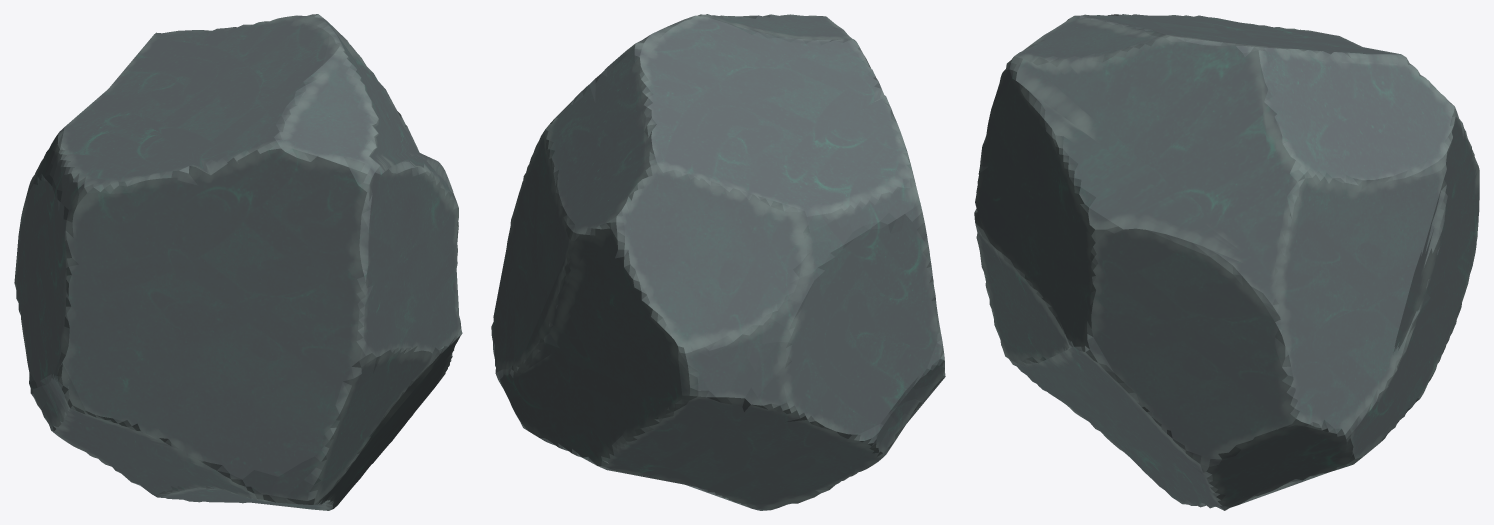
File: Asset_stone01.fbx
The picture shows the model from 3 angles, left to right: view 1: azimuth 30°, elevation 25°; view 2: azimuth 150°, elevation 25°; view 3: azimuth 270°, elevation 25°; orthographic projection. The views are drawn at different scales.
Visible parts, largest first — view 1: stone1; view 2: stone1; view 3: stone1.
Part boxes in pixels (x1,y1,x2,y2): stone1: (14, 14, 462, 510); stone1: (491, 14, 945, 510); stone1: (974, 14, 1479, 510).
Size of the model in its own units: 83.67 by 89.48 by 87.34.
